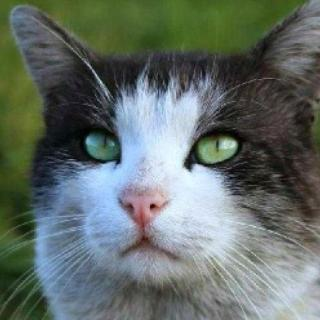cat: (9, 0, 320, 291)
nose: (110, 174, 176, 230)
